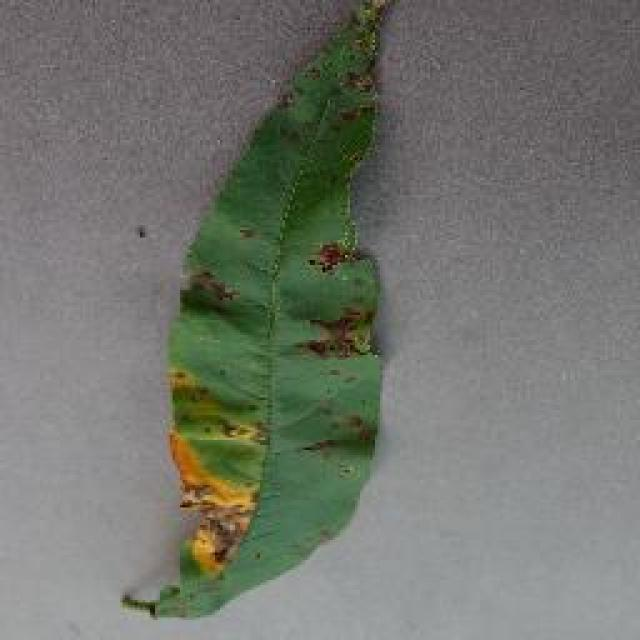Peach_Bacterial_Spot: (176, 175, 392, 590)
